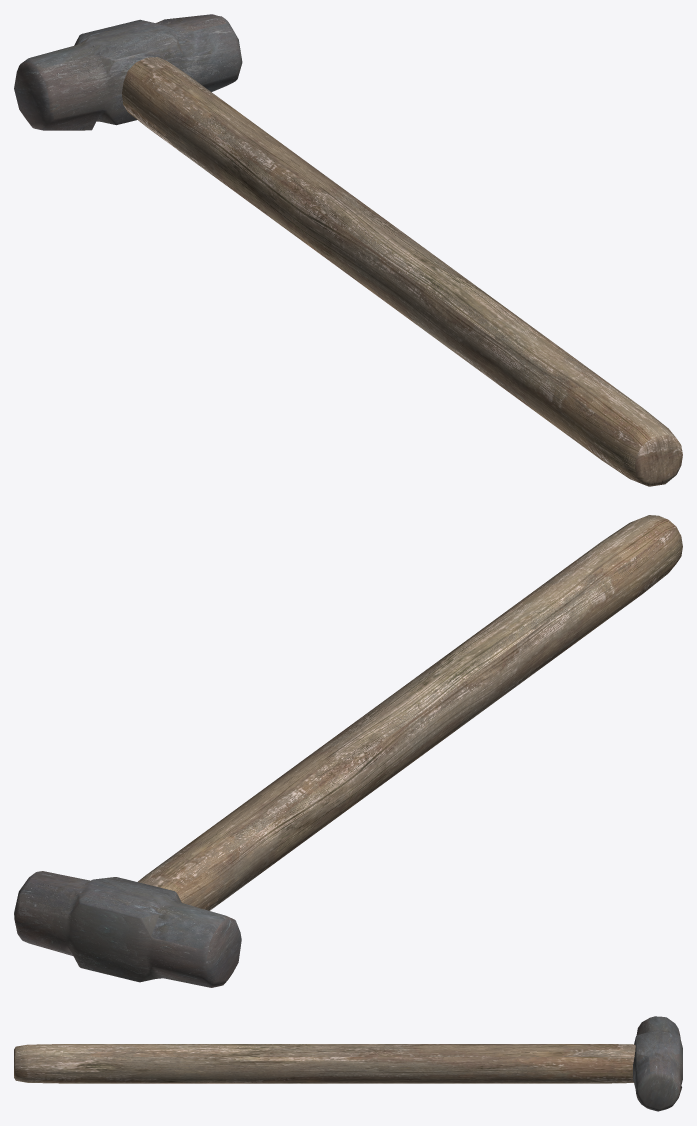
The model's file is SM_Sledge_Hammer.fbx.
The picture shows the model from 3 angles, top to bottom: view 1: azimuth 30°, elevation 25°; view 2: azimuth 150°, elevation 25°; view 3: azimuth 270°, elevation 25°; orthographic projection. The views are drawn at different scales.
Parts seen in each view (by area): view 1: SM_Sledge_Hammer_LOD0; view 2: SM_Sledge_Hammer_LOD0; view 3: SM_Sledge_Hammer_LOD0.
Part boxes in pixels (x1,y1,x2,y2): SM_Sledge_Hammer_LOD0: (14,14,682,486); SM_Sledge_Hammer_LOD0: (14,515,682,987); SM_Sledge_Hammer_LOD0: (14,1016,682,1111).
Bounding box in the file's own units: 17.57 × 84.79 × 6.58.
2 materials, 2 textured.
